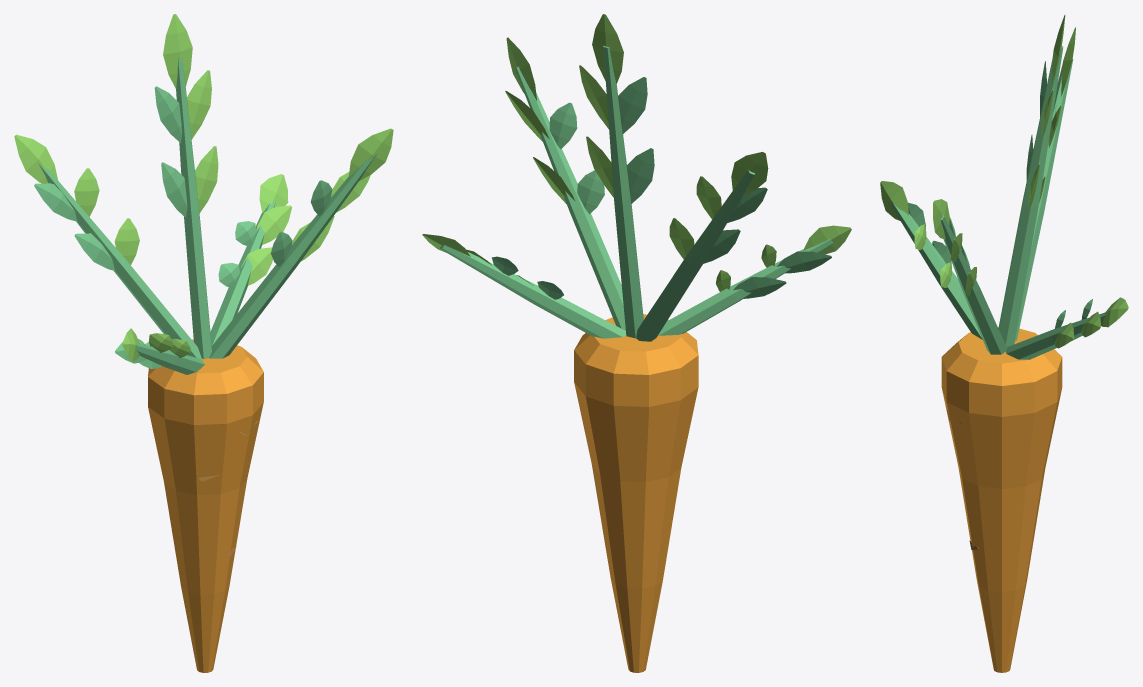
File: 02-carrot.glb
3 views of the same model, side by side, from view 1: azimuth 30°, elevation 25°; view 2: azimuth 150°, elevation 25°; view 3: azimuth 270°, elevation 25° (orthographic). The views are drawn at different scales.
Parts seen in each view (by area): view 1: 02-carrot_Body; view 2: 02-carrot_Body; view 3: 02-carrot_Body.
Boxes of the visible parts, x1=… form: 02-carrot_Body: x1=14, y1=14, x2=393, y2=672; 02-carrot_Body: x1=422, y1=14, x2=851, y2=672; 02-carrot_Body: x1=880, y1=14, x2=1128, y2=672.
Size of the model in its own units: 0.2947 by 0.574 by 0.1976.
1 material, 1 textured.
